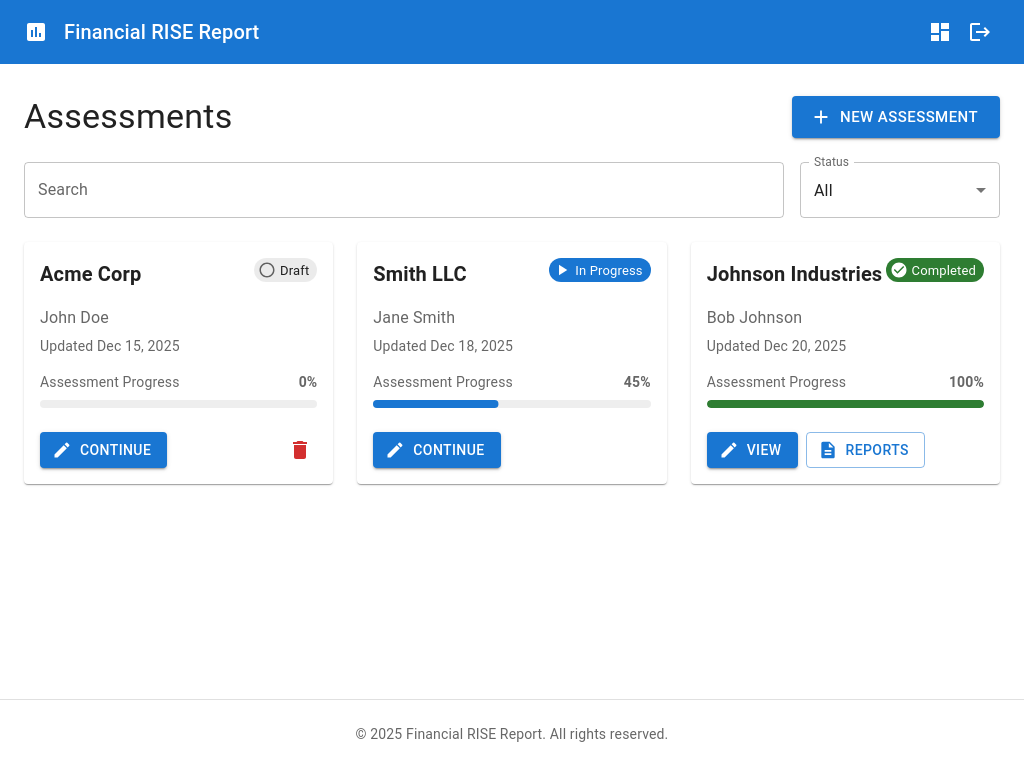
Test: Dashboard › should show filtered empty state when search returns no results
Expected: the heading "Acme Corp" is shown, x1=40 y1=258 x2=141 y2=290
Type "NonExistent" into the field with placeholder "Search by client or business name..." at (404, 190), box x1=24 y1=162 x2=784 y2=218
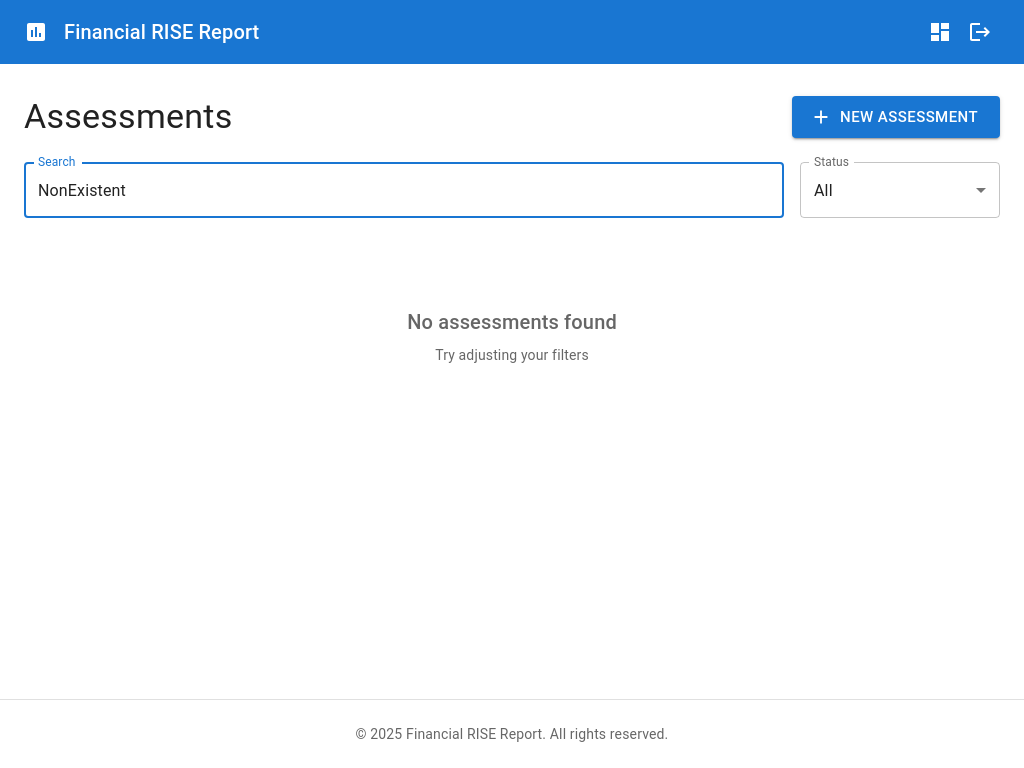
Expected: the heading "No assessments found" is shown, x1=407 y1=310 x2=617 y2=334
Expected: the text "Try adjusting your filters" is shown, x1=435 y1=347 x2=589 y2=363
